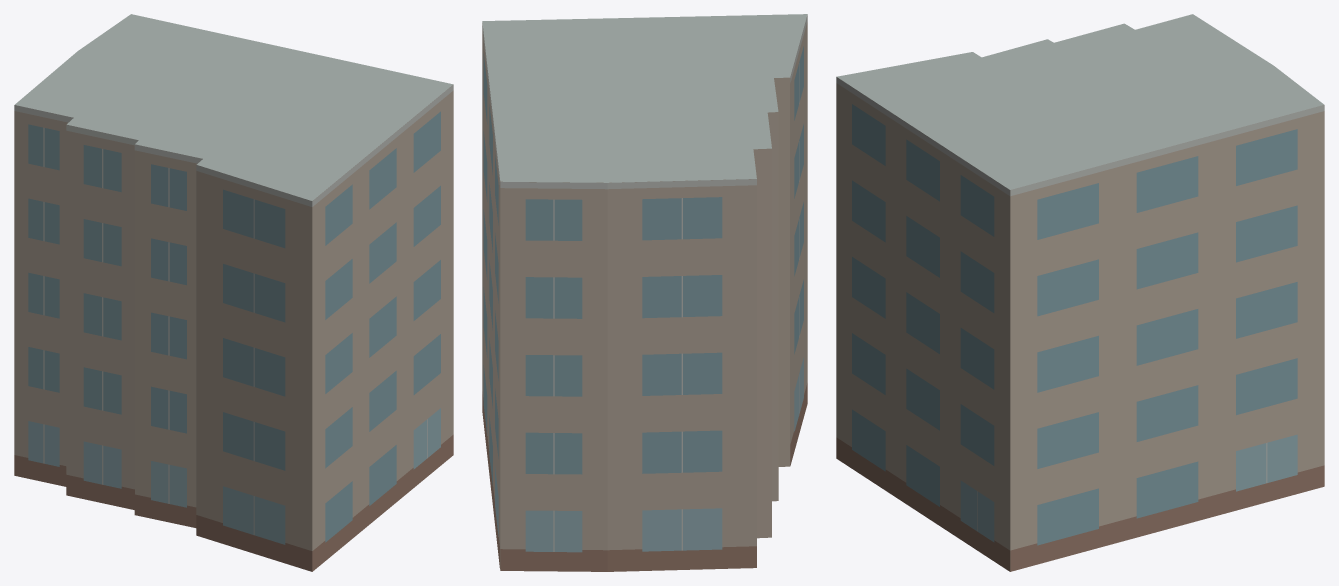
The model's file is survey-upis-32690959.glb.
3 views of the same model, side by side, from view 1: azimuth 30°, elevation 25°; view 2: azimuth 150°, elevation 25°; view 3: azimuth 270°, elevation 25° (orthographic). The views are drawn at different scales.
Parts seen in each view (by area): view 1: survey-upis-32690959.tmp; view 2: survey-upis-32690959.tmp; view 3: survey-upis-32690959.tmp.
Part boxes in pixels (bbox=[...]): survey-upis-32690959.tmp: bbox=[14, 14, 453, 571]; survey-upis-32690959.tmp: bbox=[482, 14, 807, 571]; survey-upis-32690959.tmp: bbox=[836, 14, 1324, 571].
Bounding box in the file's own units: 14.8 × 14.95 × 17.33.
